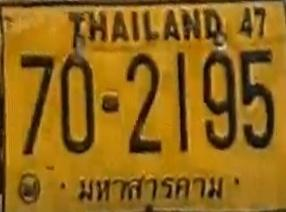0: (60, 54, 94, 152)
1: (175, 52, 187, 153)
2: (125, 53, 160, 153)
5: (240, 49, 274, 148)
7: (20, 54, 54, 151)
9: (201, 52, 236, 148)
MKM: (76, 169, 229, 207)
